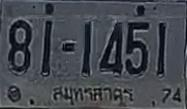1: (42, 20, 52, 75), (156, 22, 166, 76), (82, 22, 91, 74)
4: (100, 21, 123, 74)
5: (125, 22, 149, 74)
8: (8, 19, 32, 73)
SKN: (46, 81, 135, 106)
